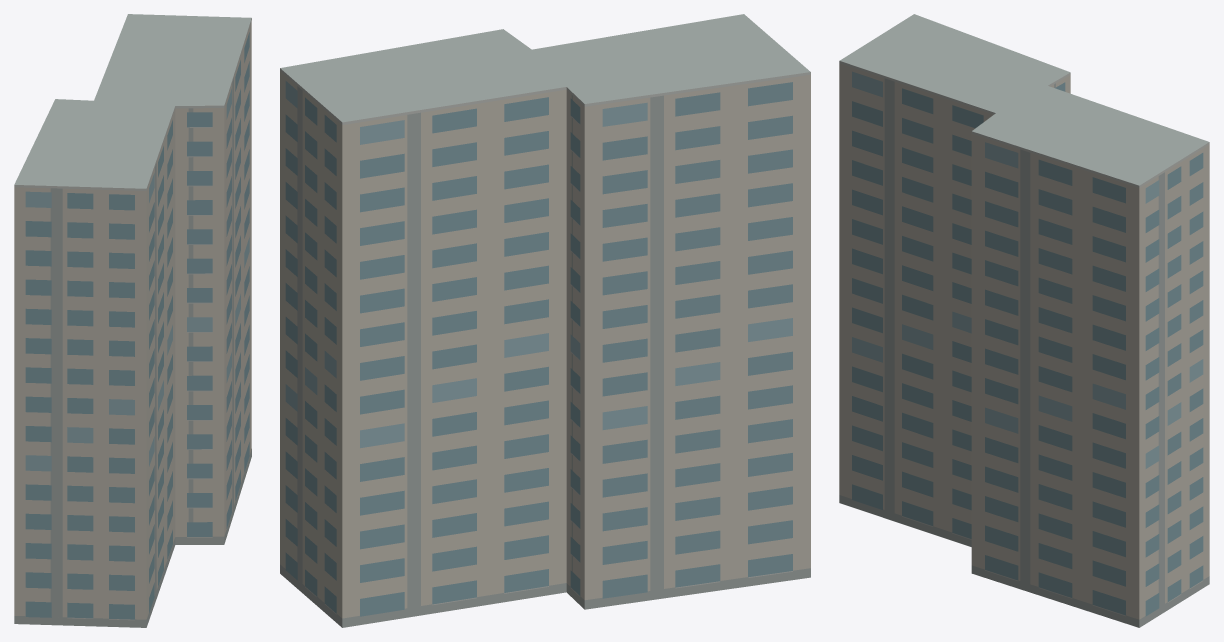
File: residential-e5bbe18c-cbb9-4afe-9bd0-b5776bb099c7.glb
3 renders of one model, left to right at view 1: azimuth 30°, elevation 25°; view 2: azimuth 150°, elevation 25°; view 3: azimuth 270°, elevation 25°, orthographic. The views are drawn at different scales.
Parts seen in each view (by area): view 1: residential-e5bbe18c-cbb9-4afe-9bd0-b5776bb099c7.tmp; view 2: residential-e5bbe18c-cbb9-4afe-9bd0-b5776bb099c7.tmp; view 3: residential-e5bbe18c-cbb9-4afe-9bd0-b5776bb099c7.tmp.
Part boxes in pixels (box(x1,y1,x2,y2)): residential-e5bbe18c-cbb9-4afe-9bd0-b5776bb099c7.tmp: box(14, 14, 251, 627); residential-e5bbe18c-cbb9-4afe-9bd0-b5776bb099c7.tmp: box(280, 14, 810, 627); residential-e5bbe18c-cbb9-4afe-9bd0-b5776bb099c7.tmp: box(839, 14, 1209, 627).
Bounding box in the file's own units: 38.1 × 45.75 × 34.71.
